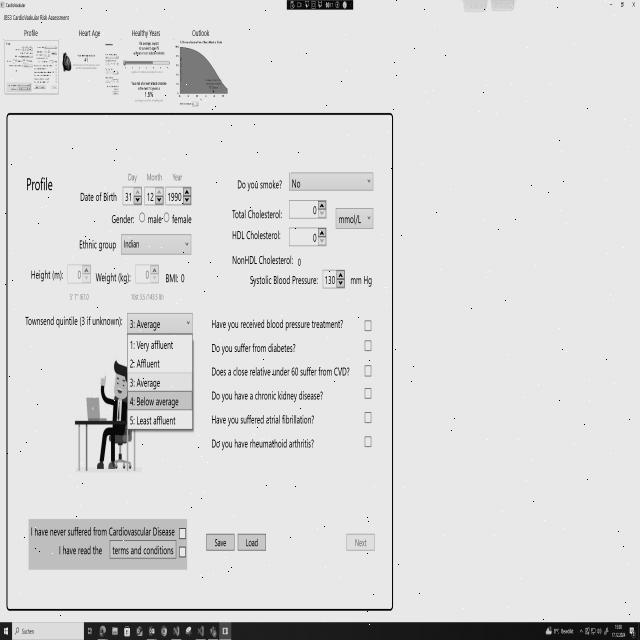button: (108, 538, 177, 564), (343, 528, 378, 558), (204, 530, 236, 558), (236, 531, 268, 557), (627, 0, 640, 13), (615, 0, 627, 13), (606, 0, 616, 14)
checkbox: (363, 434, 374, 451), (362, 410, 373, 426), (363, 385, 373, 402), (364, 316, 374, 332), (178, 524, 188, 540), (364, 364, 374, 379), (363, 338, 372, 353), (178, 546, 187, 560)
dropdownMenu: (127, 311, 194, 434), (286, 169, 374, 195), (120, 231, 194, 260), (334, 204, 376, 233)
input: (13, 621, 83, 640)
label: (210, 314, 346, 334), (28, 520, 176, 538), (210, 385, 332, 406), (20, 310, 126, 334), (208, 362, 352, 378), (208, 434, 326, 452), (208, 412, 322, 428), (228, 252, 308, 270), (229, 199, 284, 225), (246, 274, 319, 293), (209, 340, 302, 354), (236, 171, 285, 197), (230, 227, 283, 246), (55, 544, 105, 564), (22, 172, 59, 198), (76, 184, 119, 206), (96, 266, 131, 290), (28, 264, 66, 284), (76, 237, 118, 254), (3, 12, 72, 21), (129, 290, 172, 302), (129, 24, 164, 38), (66, 289, 93, 307), (172, 210, 197, 228), (349, 272, 374, 290), (108, 212, 136, 226), (77, 25, 104, 39), (162, 272, 191, 284), (191, 23, 214, 38), (144, 168, 164, 184), (126, 168, 140, 186), (22, 27, 43, 38), (170, 168, 186, 182), (147, 214, 162, 227)
menuItem: (128, 391, 182, 409), (128, 337, 178, 353), (129, 371, 168, 390), (129, 413, 181, 427), (129, 356, 168, 370)
radio: (139, 210, 146, 225), (163, 212, 171, 225)
upDown: (287, 224, 328, 250), (288, 196, 329, 220), (321, 265, 347, 291), (165, 184, 193, 207), (66, 262, 92, 286), (135, 263, 159, 286), (121, 185, 143, 207), (144, 185, 164, 207)
